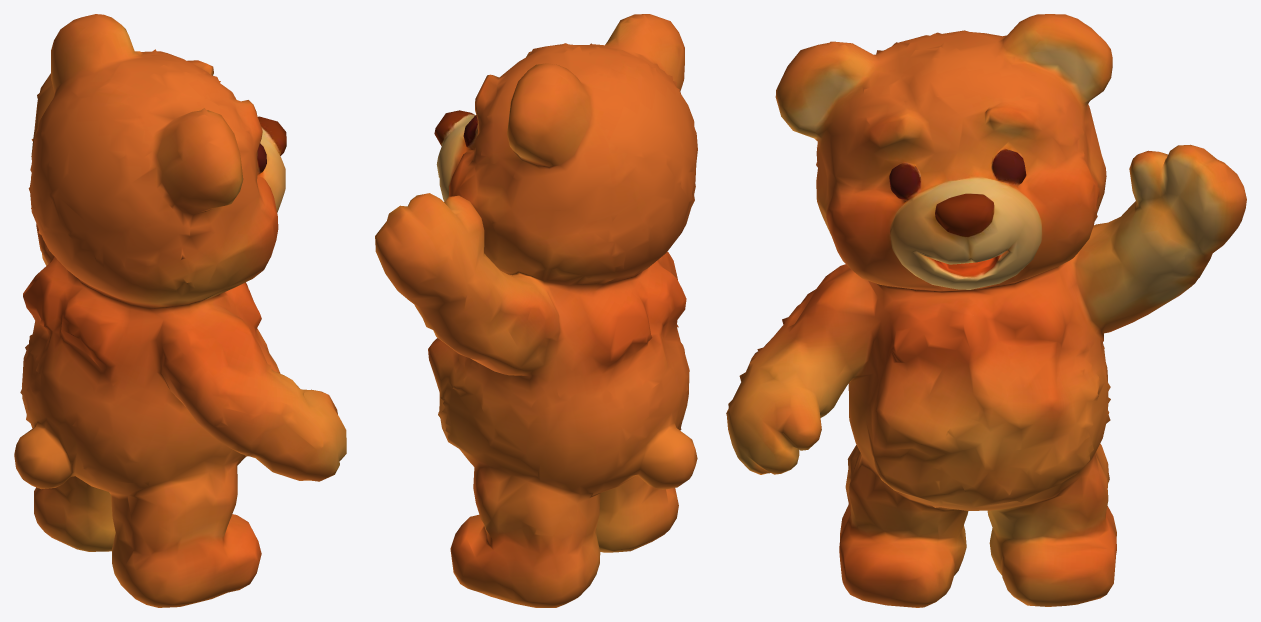
Rendered from deco_bear.glb.
3 views of the same model, side by side, from view 1: azimuth 30°, elevation 25°; view 2: azimuth 150°, elevation 25°; view 3: azimuth 270°, elevation 25° (orthographic). The views are drawn at different scales.
Visible parts, largest first — view 1: tripo_node_13a3f710-3a21-4a17-ac0e-cb891cd633ef; view 2: tripo_node_13a3f710-3a21-4a17-ac0e-cb891cd633ef; view 3: tripo_node_13a3f710-3a21-4a17-ac0e-cb891cd633ef.
Boxes of the visible parts, bbox=[...] form: tripo_node_13a3f710-3a21-4a17-ac0e-cb891cd633ef: bbox=[14, 14, 346, 607]; tripo_node_13a3f710-3a21-4a17-ac0e-cb891cd633ef: bbox=[375, 14, 697, 607]; tripo_node_13a3f710-3a21-4a17-ac0e-cb891cd633ef: bbox=[726, 14, 1246, 607].
Size of the model in its own units: 0.5153 by 1 by 0.8405.
Materials: 1 (1 with a texture image).
